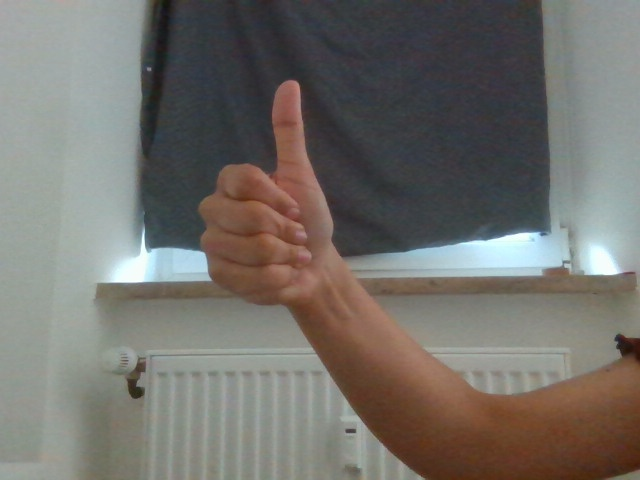Thumbs up: (184, 72, 354, 309)
